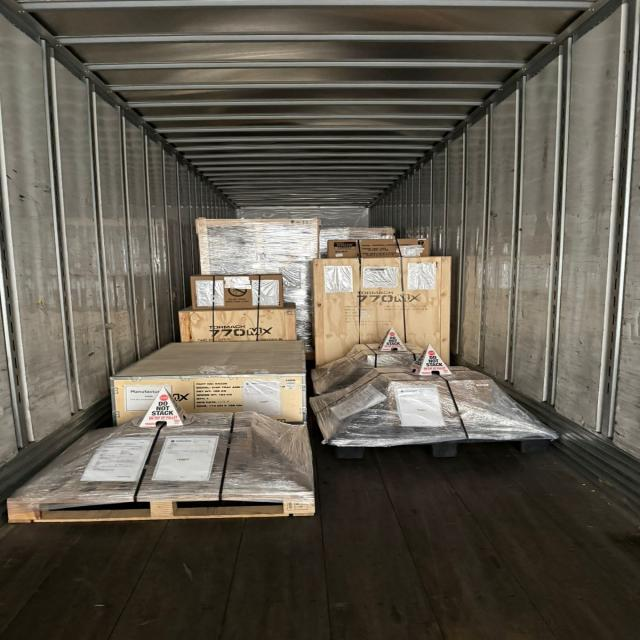15lx: (196, 218, 319, 352)
770b: (313, 239, 450, 364), (314, 240, 450, 365)
encl770: (112, 341, 306, 425)
stnd770: (179, 303, 297, 342)
